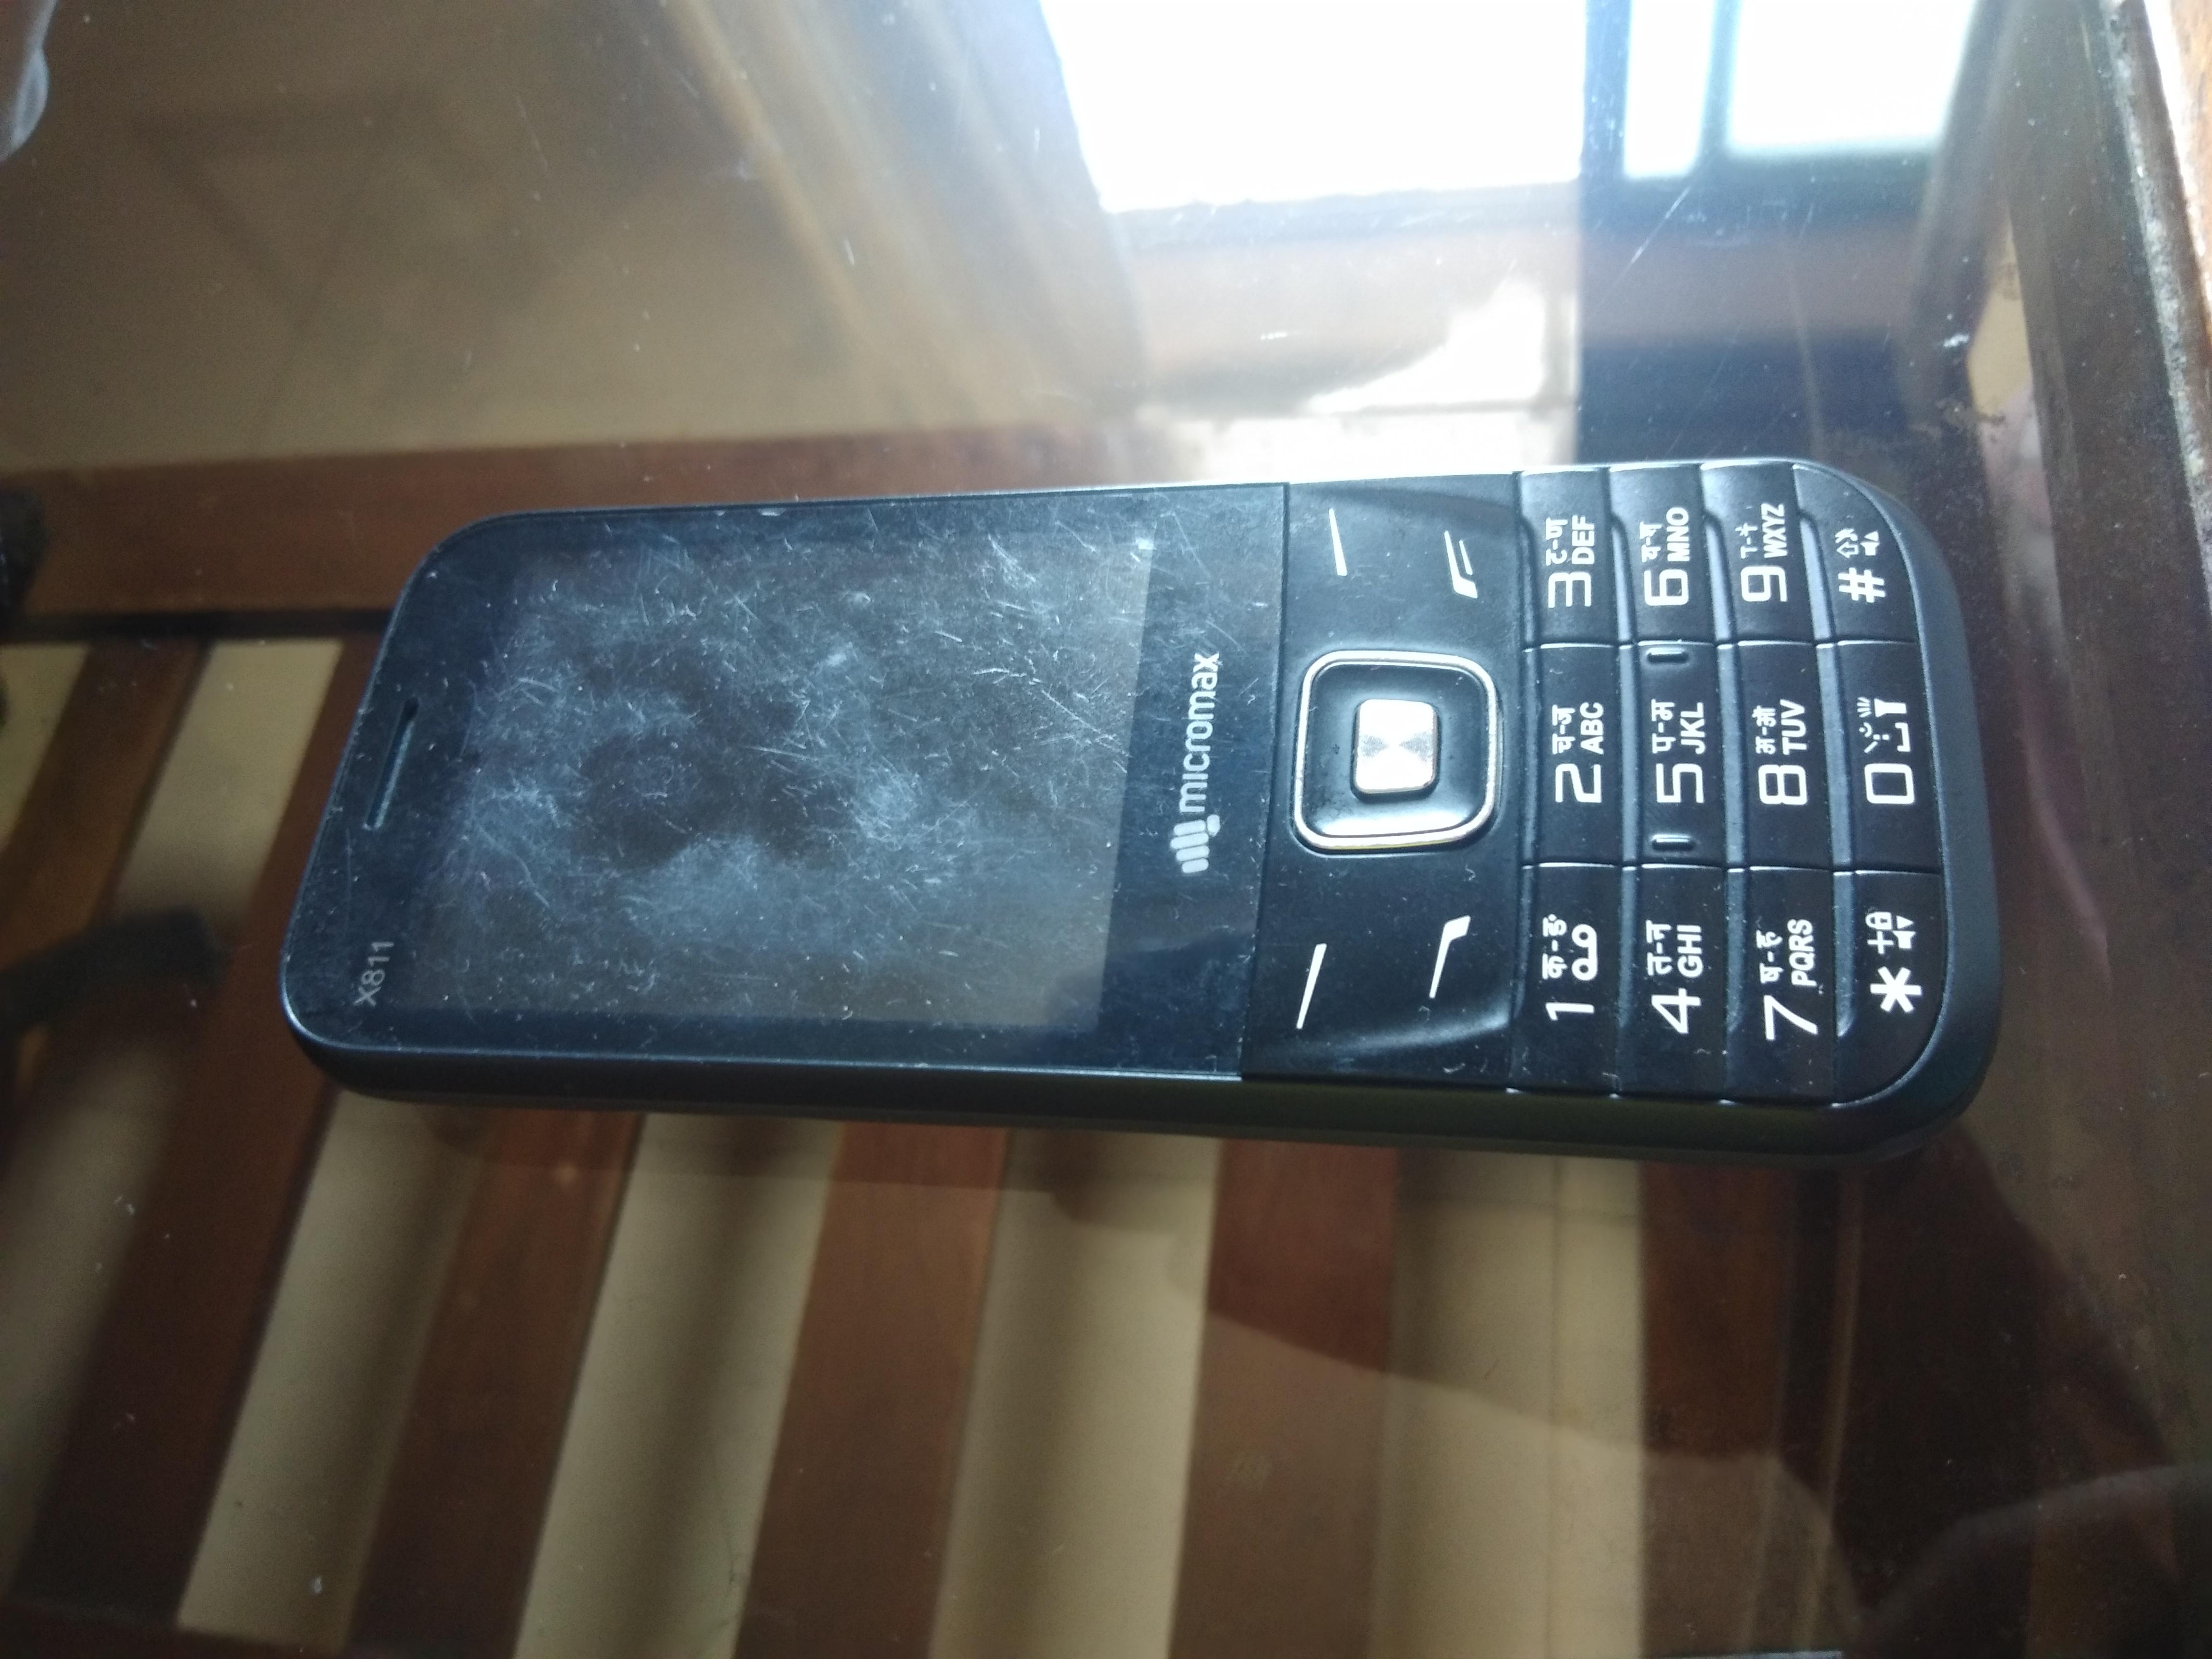Phone: (228, 416, 2050, 1194)
